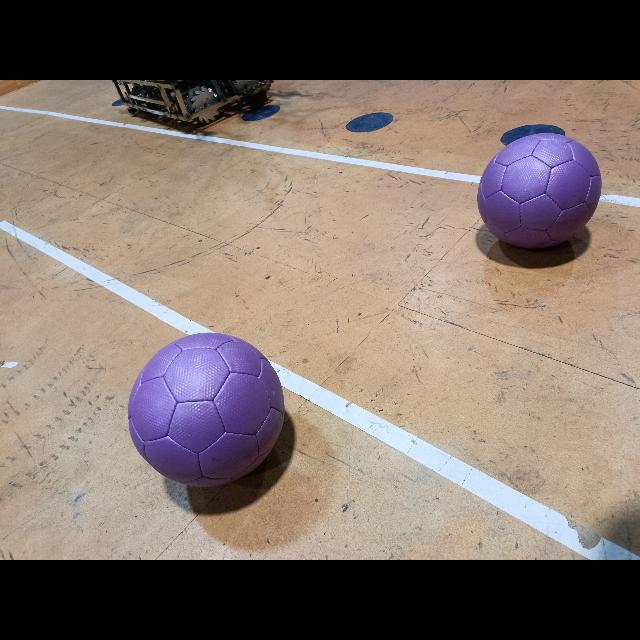P: (128, 332, 286, 486), (478, 133, 600, 247)
